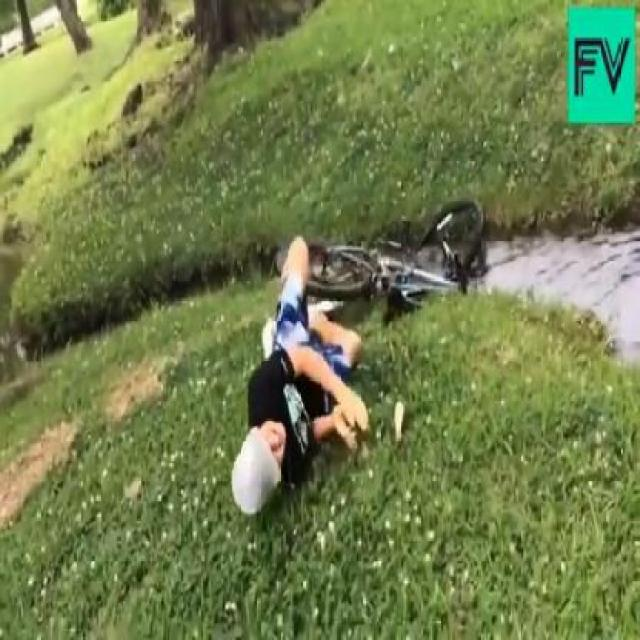fall: (241, 233, 361, 513)
